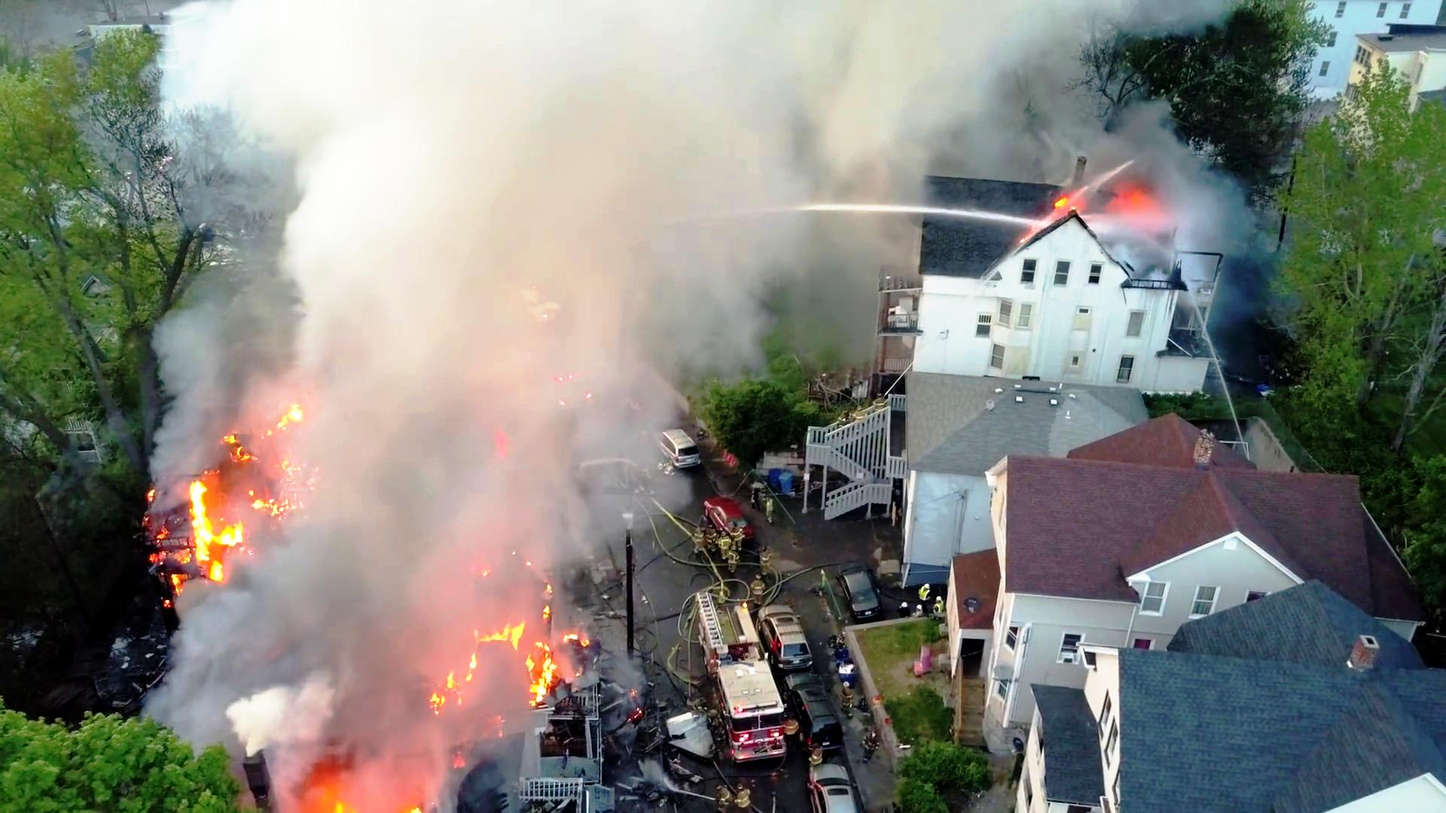fire: (452, 601, 575, 694), (152, 495, 249, 584)
smoke: (315, 17, 558, 506)
